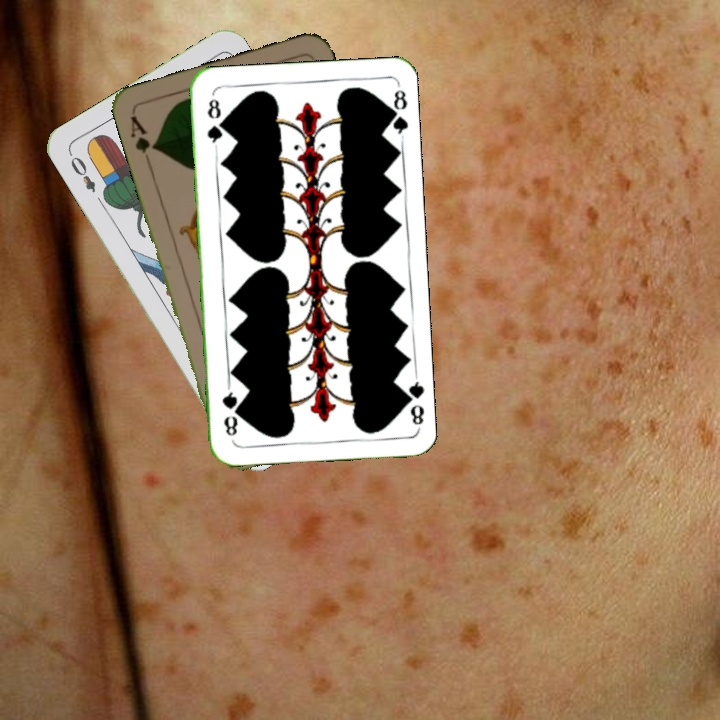EO: (64, 148, 99, 195)
G8: (398, 371, 427, 430), (203, 95, 225, 151)
GA: (126, 112, 159, 169)
